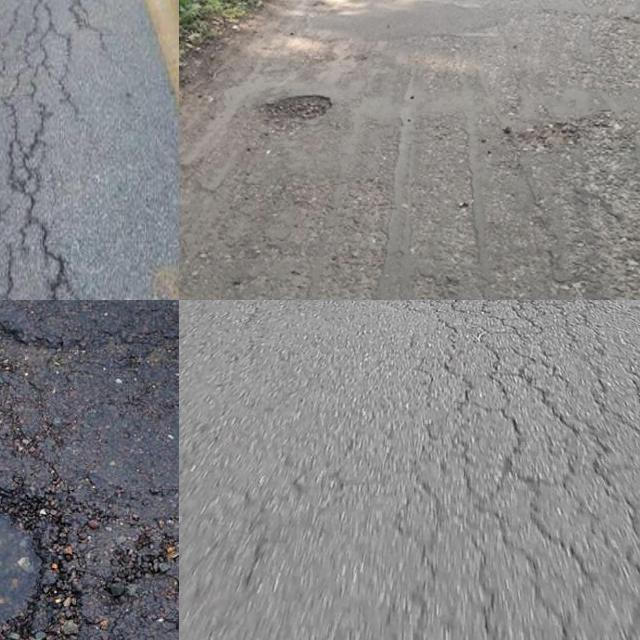Lubang: (249, 91, 334, 140)
Retak Buaya: (403, 300, 640, 640), (0, 0, 99, 300)
